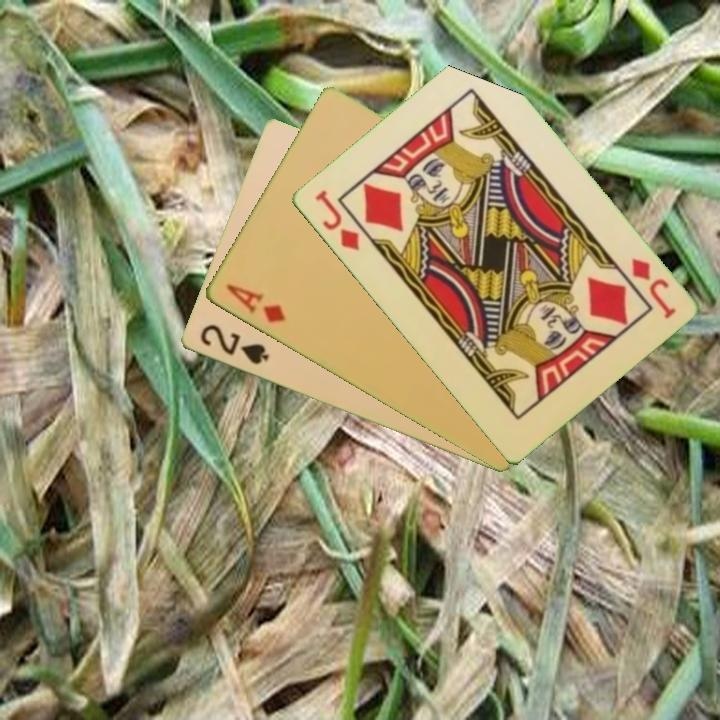2s: (195, 321, 271, 368)
Ad: (221, 280, 289, 326)
Jd: (311, 186, 362, 254), (627, 254, 678, 322)
